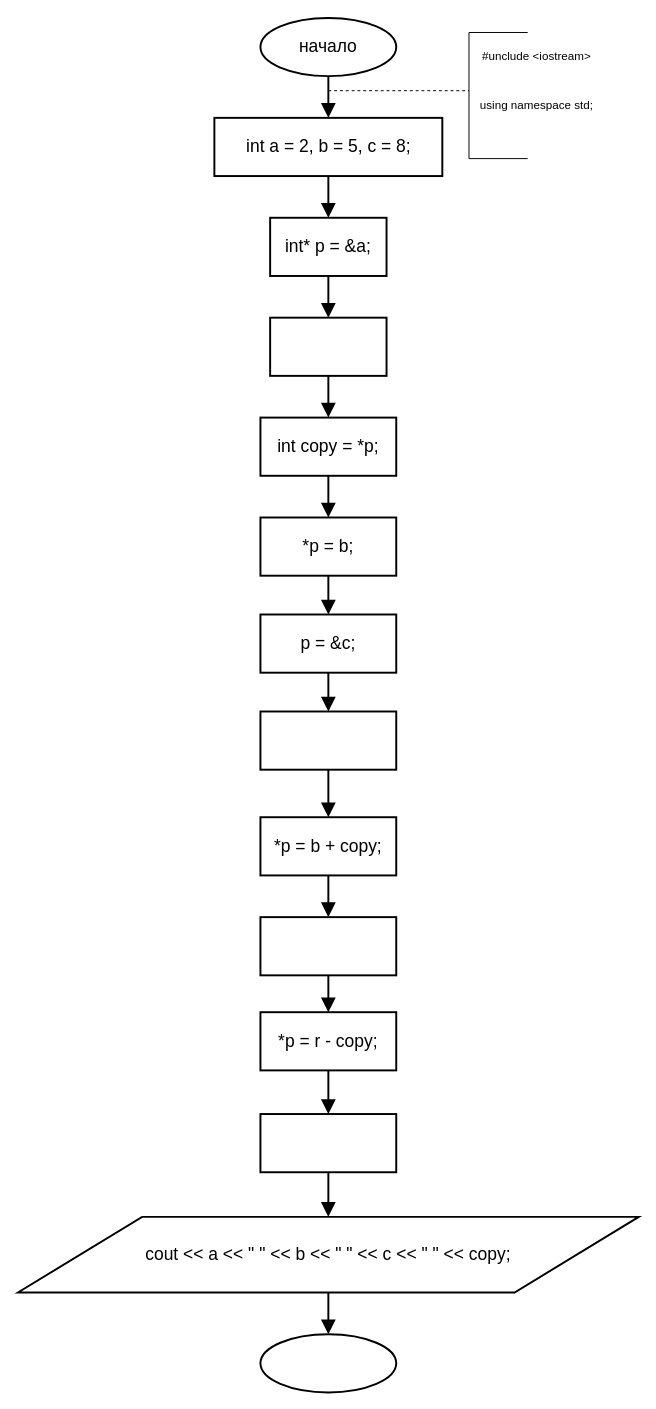
The diagram is 656 pixels wide and 1409 high, and some of its shapes have lost their labels. Each missing label, with the box of its shape:
int& r = a;: (269, 316, 387, 376)
p = &b;: (259, 916, 397, 976)
r = *p;: (259, 710, 397, 770)
r++;: (259, 1113, 397, 1173)
конец: (259, 1333, 397, 1393)
